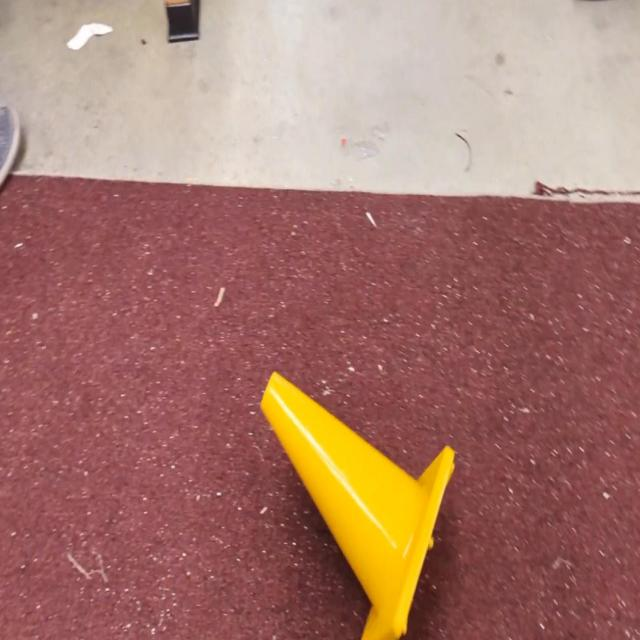frc_cone: (261, 372, 455, 640)
